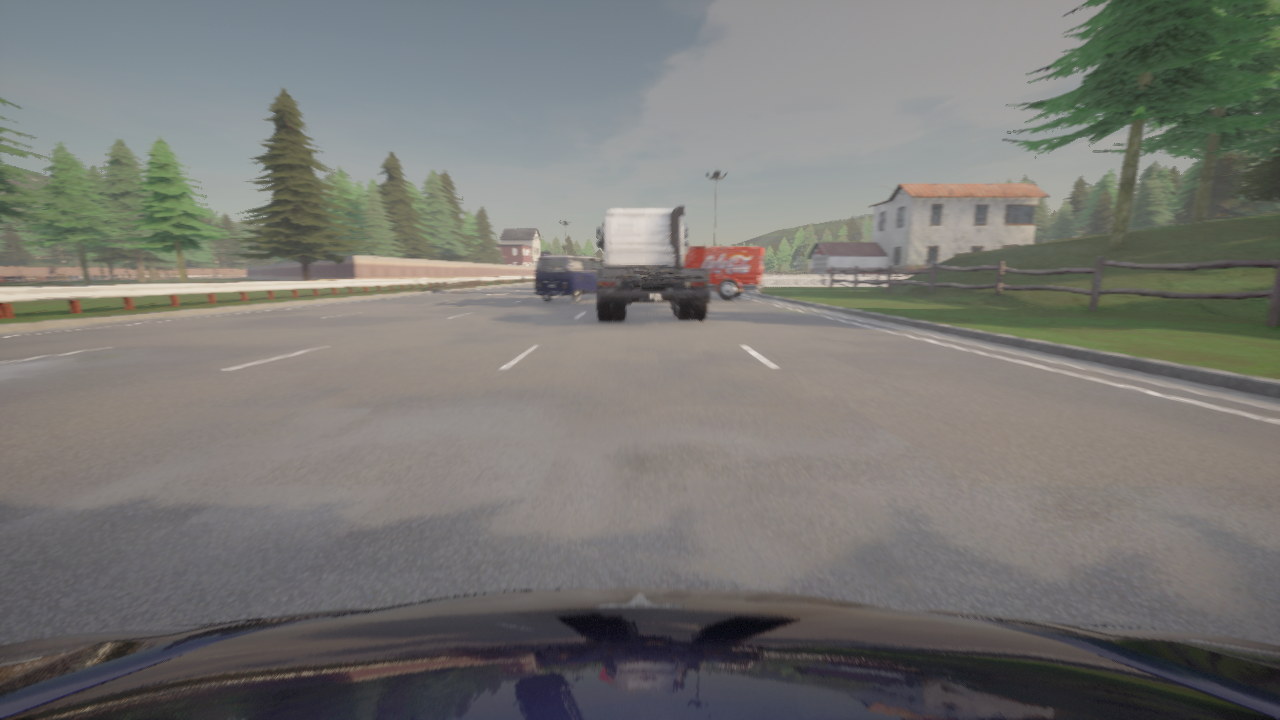cyclist: (0, 588, 1279, 719), (597, 205, 709, 320), (684, 247, 763, 299), (535, 255, 603, 302)
